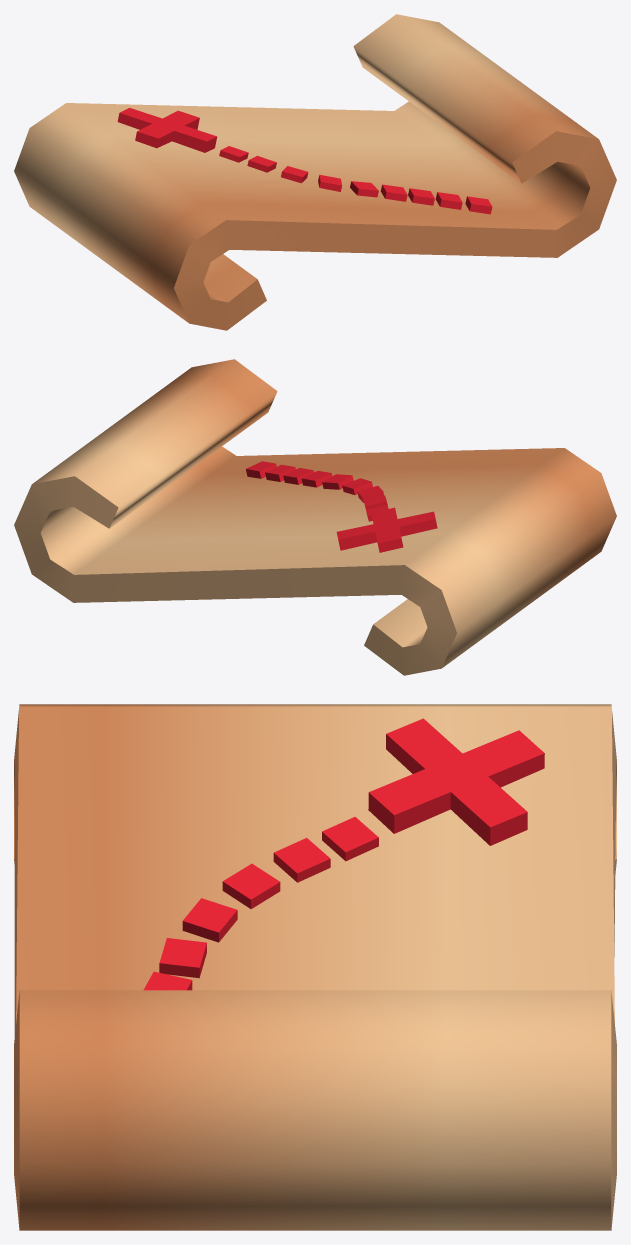
File: TreasureMap.fbx
The picture shows the model from 3 angles, top to bottom: view 1: azimuth 30°, elevation 25°; view 2: azimuth 150°, elevation 25°; view 3: azimuth 270°, elevation 25°; orthographic projection. The views are drawn at different scales.
Parts seen in each view (by area): view 1: TreasureMap; view 2: TreasureMap; view 3: TreasureMap.
Part boxes in pixels (x1=…): TreasureMap: x1=14, y1=14, x2=616, y2=330; TreasureMap: x1=14, y1=359, x2=616, y2=675; TreasureMap: x1=14, y1=704, x2=616, y2=1230.
Bounding box in the file's own units: 75.22 × 20.6 × 47.85.
1 material, 1 textured.
